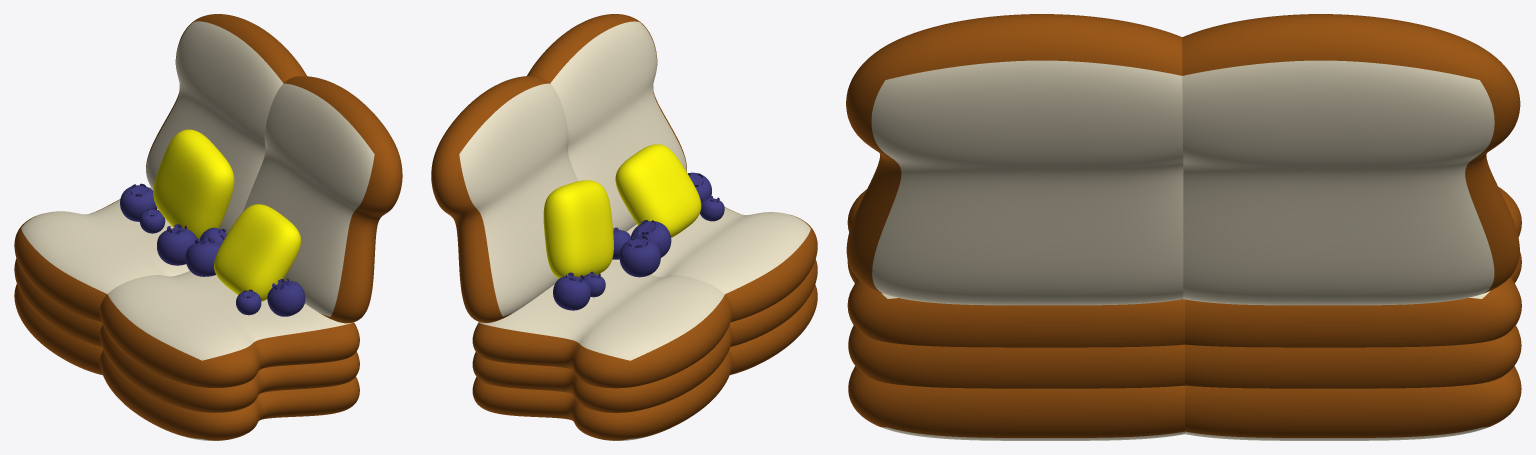
Rendered from couch.fbx.
3 views of the same model, side by side, from view 1: azimuth 30°, elevation 25°; view 2: azimuth 150°, elevation 25°; view 3: azimuth 270°, elevation 25° (orthographic). The views are drawn at different scales.
Parts seen in each view (by area): view 1: Cube, Cube.004, Cube.006, Cube.005, Cube.003, Cube.002, blue, blue.004, blue.001, blue.003, blue.005, blue.006; view 2: Cube, Cube.004, Cube.006, Cube.005, Cube.003, Cube.002, blue, blue.003, blue.001, blue.005, blue.004, blue.006; view 3: Cube, Cube.006, Cube.004, Cube.005.
Part boxes in pixels (x1,y1,x2,y2): Cube: (146, 14, 402, 323); Cube.004: (14, 187, 359, 387); Cube.006: (14, 284, 359, 440); Cube.005: (14, 258, 359, 412); Cube.003: (153, 129, 234, 238); Cube.002: (214, 204, 300, 301); blue: (157, 224, 196, 265); blue.004: (267, 278, 305, 316); blue.001: (185, 237, 220, 276); blue.003: (120, 183, 157, 221); blue.005: (236, 289, 261, 315); blue.006: (139, 208, 165, 233); Cube: (431, 14, 686, 322); Cube.004: (472, 206, 817, 388); Cube.006: (472, 284, 817, 440); Cube.005: (472, 259, 817, 412); Cube.003: (543, 180, 613, 278); Cube.002: (615, 144, 701, 237); blue: (619, 235, 660, 277); blue.003: (553, 272, 590, 310); blue.001: (631, 220, 671, 257); blue.005: (700, 196, 724, 221); blue.004: (687, 172, 711, 201); blue.006: (583, 271, 605, 297); Cube: (846, 14, 1520, 305); Cube.006: (847, 288, 1521, 440); Cube.004: (847, 187, 1521, 347); Cube.005: (847, 252, 1521, 388).
Size of the model in its own units: 302 by 347 by 462.
